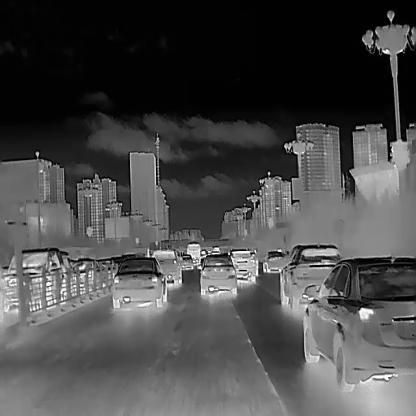car: (301, 255, 415, 393), (279, 242, 339, 310), (0, 246, 62, 310), (111, 256, 166, 308), (198, 252, 237, 293), (152, 248, 182, 286), (72, 256, 101, 287), (231, 247, 255, 280), (262, 247, 284, 273), (185, 240, 200, 265), (178, 253, 192, 269)
